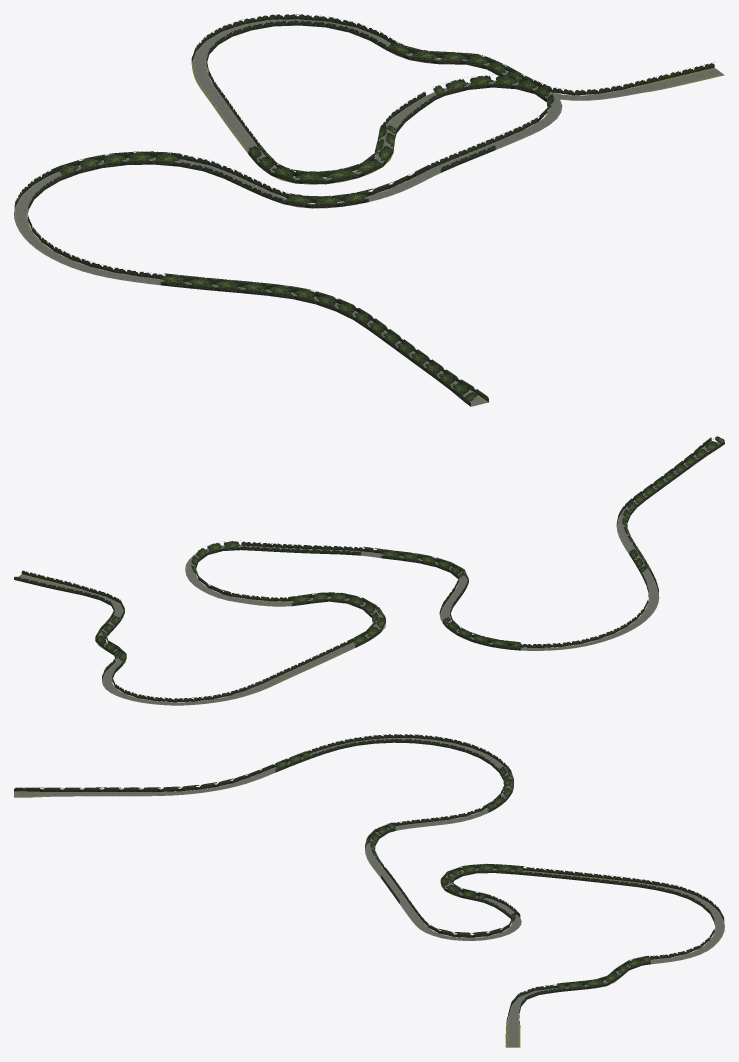
The model's file is stage-fore-env.glb.
3 renders of one model, top to bottom at view 1: azimuth 30°, elevation 25°; view 2: azimuth 150°, elevation 25°; view 3: azimuth 270°, elevation 25°, orthographic. The views are drawn at different scales.
Parts seen in each view (by area): view 1: env part 1 chunk 0,-4, env part 1 chunk 1,-4, env part 1 chunk -1,-2, env part 1 chunk 2,-4, env part 1 chunk 2,-5, env part 0 chunk 1,-3, env part 0 chunk 1,-4, env part 1 chunk -1,-1, env part 0 chunk 1,-6, env part 1 chunk 1,-6, env part 1 chunk -1,-3, env part 1 chunk -1,-4 (+7 smaller); view 2: env part 1 chunk 1,-4, env part 1 chunk 0,-4, env part 1 chunk 2,-4, env part 0 chunk 1,-3, env part 0 chunk 1,-6, env part 1 chunk 3,-5, env part 1 chunk -1,-1, env part 1 chunk 1,-6, env part 1 chunk 2,-5, env part 0 chunk 1,-4, env part 0 chunk 0,-4, env part 0 chunk -1,-3 (+2 smaller); view 3: env part 1 chunk 0,-4, env part 0 chunk 1,-3, env part 1 chunk 1,-6, env part 1 chunk 2,-5, env part 1 chunk 1,-4, env part 1 chunk -1,-3, env part 0 chunk 1,-4, env part 1 chunk 0,-5, env part 1 chunk -1,-1, env part 0 chunk 1,-6, env part 0 chunk 3,-5, env part 0 chunk 0,-4 (+5 smaller).
Boxes of the visible parts, left/top/right/bottom form: env part 1 chunk 0,-4: left=110, top=151, right=372, bottom=208; env part 1 chunk 1,-4: left=326, top=92, right=495, bottom=183; env part 1 chunk -1,-2: left=214, top=278, right=372, bottom=329; env part 1 chunk 2,-4: left=433, top=74, right=554, bottom=145; env part 1 chunk 2,-5: left=386, top=41, right=532, bottom=82; env part 0 chunk 1,-3: left=26, top=51, right=724, bottom=402; env part 0 chunk 1,-4: left=326, top=92, right=548, bottom=183; env part 1 chunk -1,-1: left=368, top=319, right=478, bottom=406; env part 0 chunk 1,-6: left=191, top=19, right=312, bottom=109; env part 1 chunk 1,-6: left=191, top=14, right=325, bottom=106; env part 1 chunk -1,-3: left=54, top=247, right=226, bottom=290; env part 1 chunk -1,-4: left=14, top=152, right=126, bottom=218; env part 1 chunk 1,-4: left=231, top=545, right=377, bottom=609; env part 1 chunk 0,-4: left=353, top=555, right=474, bottom=641; env part 1 chunk 2,-4: left=191, top=540, right=302, bottom=596; env part 0 chunk 1,-3: left=20, top=441, right=712, bottom=702; env part 0 chunk 1,-6: left=110, top=671, right=297, bottom=705; env part 1 chunk 3,-5: left=14, top=570, right=124, bottom=619; env part 1 chunk -1,-1: left=644, top=436, right=724, bottom=499; env part 1 chunk 1,-6: left=115, top=668, right=290, bottom=702; env part 1 chunk 2,-5: left=95, top=609, right=126, bottom=665; env part 0 chunk 1,-4: left=219, top=546, right=376, bottom=611; env part 0 chunk 0,-4: left=365, top=561, right=474, bottom=640; env part 0 chunk -1,-3: left=634, top=558, right=659, bottom=616; env part 1 chunk 0,-4: left=365, top=788, right=514, bottom=880; env part 0 chunk 1,-3: left=14, top=772, right=715, bottom=1047; env part 1 chunk 1,-6: left=600, top=874, right=724, bottom=947; env part 1 chunk 2,-5: left=535, top=955, right=650, bottom=992; env part 1 chunk 1,-4: left=381, top=867, right=520, bottom=918; env part 1 chunk -1,-3: left=274, top=735, right=393, bottom=772; env part 0 chunk 1,-4: left=379, top=873, right=520, bottom=929; env part 1 chunk 0,-5: left=507, top=865, right=602, bottom=882; env part 1 chunk -1,-1: left=14, top=787, right=161, bottom=791; env part 0 chunk 1,-6: left=602, top=878, right=724, bottom=946; env part 0 chunk 3,-5: left=508, top=990, right=544, bottom=1047; env part 0 chunk 0,-4: left=365, top=794, right=511, bottom=877.
Size of the model in its own units: 1518 by 150 by 1729.
5 materials, 5 textured.
